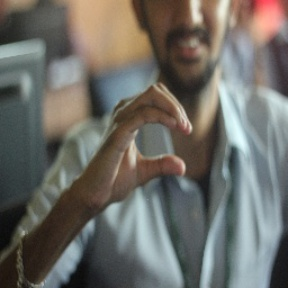C: (112, 80, 197, 184)
